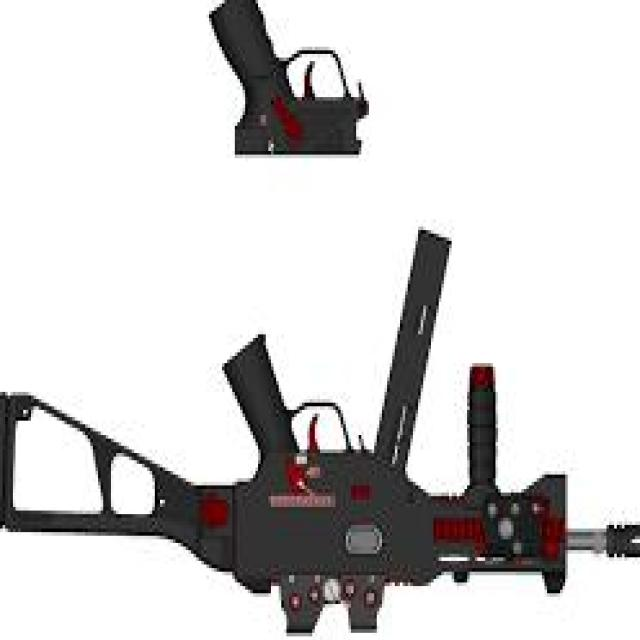Gun: (0, 220, 640, 640)
